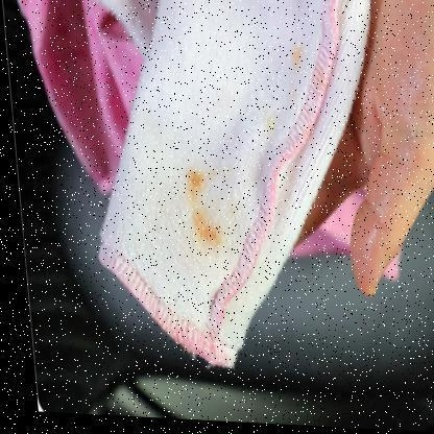kimchi: (185, 214, 226, 251), (177, 163, 209, 199), (298, 42, 313, 66)
